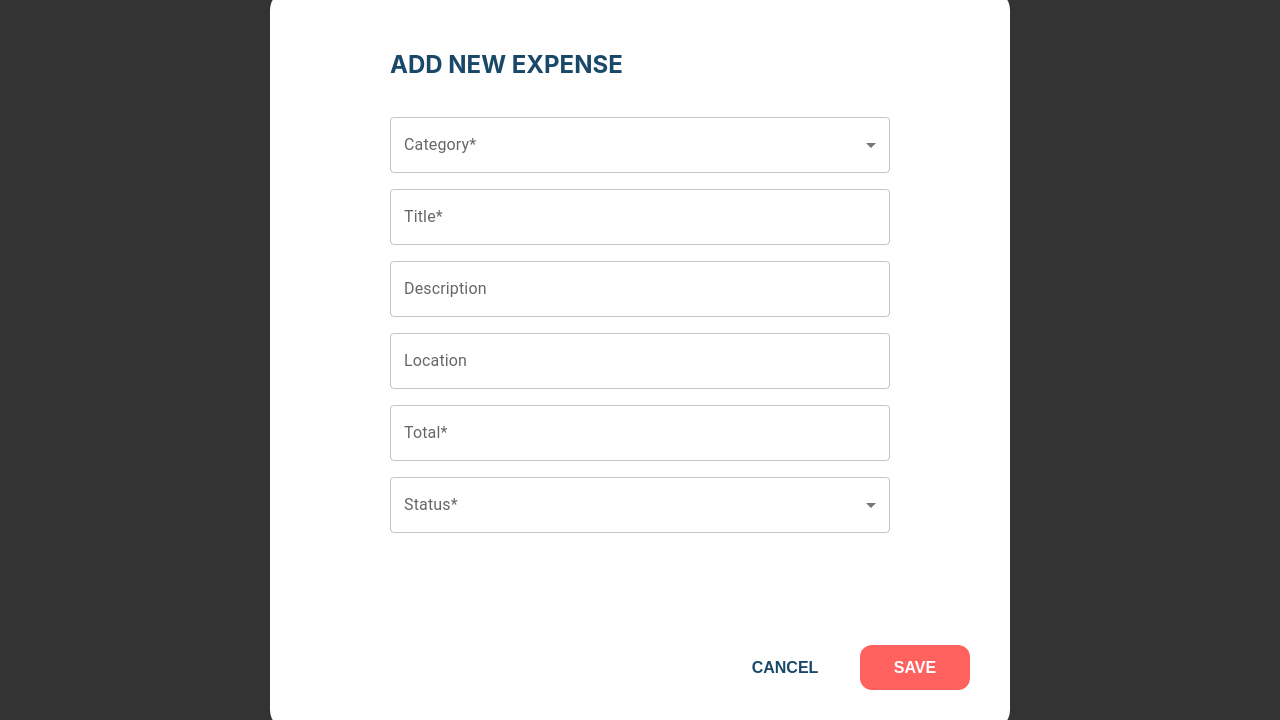
Test case: AddExpenseModal › render › shows correct category items when clicked
Click the dropdown named "Category*" next to "Category*". click: click(640, 145)
box: 390,117 -> 890,173
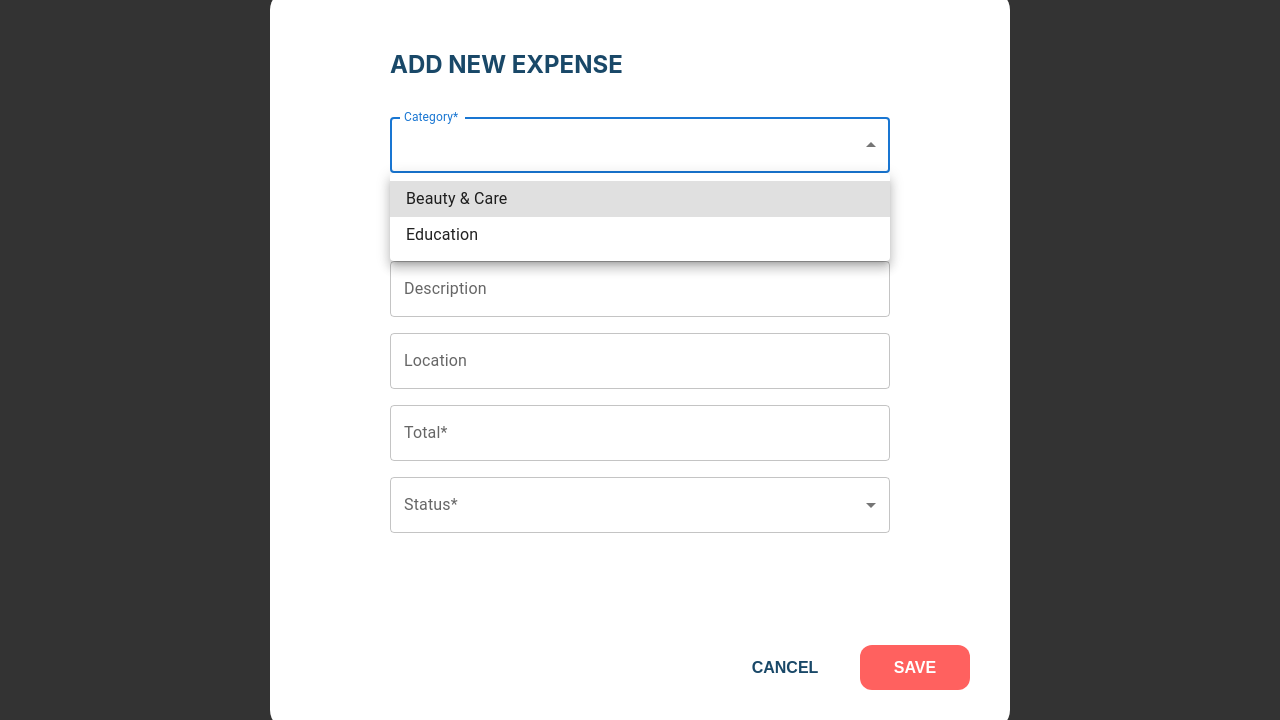
Expected: the number of options is 2, 390,181 -> 890,217; 406,225 -> 478,244
Expected: the option "Beauty & Care" is shown, 390,181 -> 890,217
Expected: the option "Education" is shown, 406,225 -> 478,244
